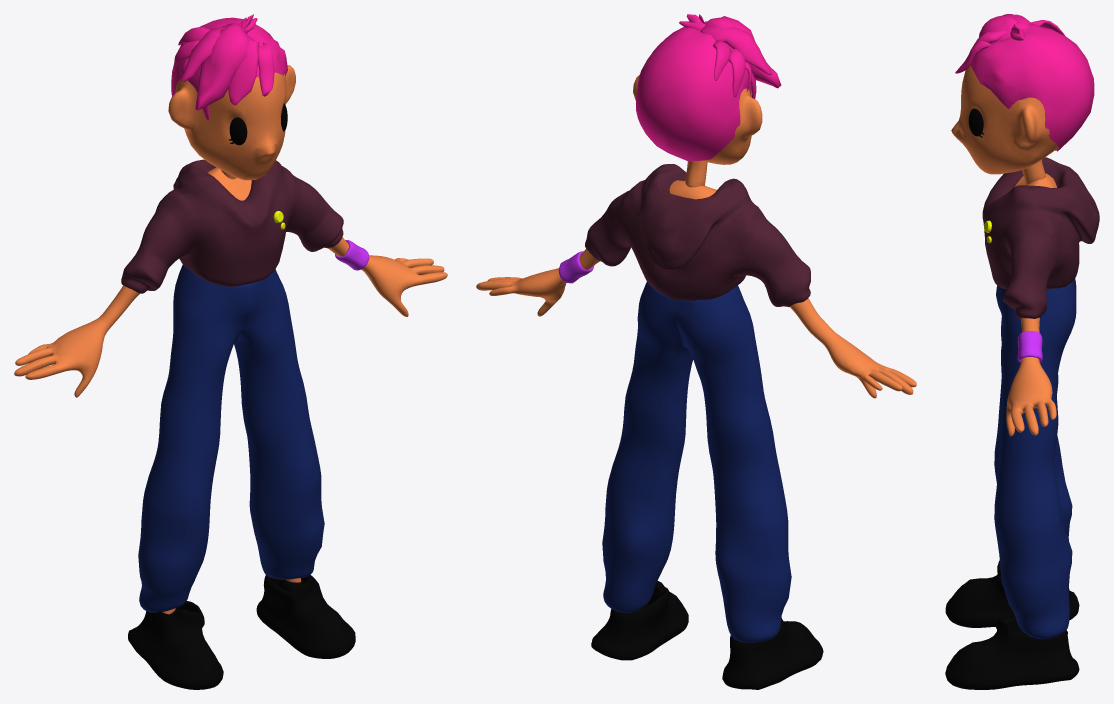
The model's file is Personaje_low.fbx.
The picture shows the model from 3 angles, left to right: view 1: azimuth 30°, elevation 25°; view 2: azimuth 150°, elevation 25°; view 3: azimuth 270°, elevation 25°; orthographic projection. The views are drawn at different scales.
Visible parts, largest first — view 1: PANTALON_LOW, SUDADERA_LOW, ZAPATILLAS_LOW, CABEZA_LOW, BRAZOS_LOW, PELO (×4), PELO_BASE_LOW; view 2: PANTALON_LOW, SUDADERA_LOW, PELO_BASE_LOW, ZAPATILLAS_LOW, BRAZOS_LOW, PELO (×2), CABEZA_LOW; view 3: PANTALON_LOW, SUDADERA_LOW, ZAPATILLAS_LOW, PELO_BASE_LOW, CABEZA_LOW, BRAZOS_LOW, PELO (×2), MUÑEQUERA_LOW, CUELLO_LOW, ZBrush_defualt_group, TORSO_LOW.
Part boxes in pixels (box(x1,y1,x2,y2)): PANTALON_LOW: box(138, 264, 324, 612); SUDADERA_LOW: box(121, 159, 343, 293); ZAPATILLAS_LOW: box(128, 575, 355, 689); CABEZA_LOW: box(168, 65, 295, 180); BRAZOS_LOW: box(14, 237, 447, 397); PELO (×4): box(181, 23, 274, 110); PELO_BASE_LOW: box(171, 17, 287, 96); PANTALON_LOW: box(602, 282, 791, 642); SUDADERA_LOW: box(585, 164, 810, 307); PELO_BASE_LOW: box(636, 27, 751, 161); ZAPATILLAS_LOW: box(591, 580, 823, 689); BRAZOS_LOW: box(476, 249, 916, 398); PELO (×2): box(700, 16, 781, 88); CABEZA_LOW: box(633, 74, 762, 164); PANTALON_LOW: box(994, 278, 1076, 639); SUDADERA_LOW: box(982, 157, 1099, 319); ZAPATILLAS_LOW: box(945, 560, 1079, 689); PELO_BASE_LOW: box(970, 24, 1094, 151); CABEZA_LOW: box(951, 65, 1058, 174); BRAZOS_LOW: box(1006, 317, 1056, 436); PELO (×2): box(955, 15, 1018, 73); MUÑEQUERA_LOW: box(1017, 331, 1042, 363); CUELLO_LOW: box(1022, 159, 1045, 184); ZBrush_defualt_group: box(968, 108, 984, 137); TORSO_LOW: box(1014, 173, 1056, 187).
Size of the model in its own units: 16.68 by 23.46 by 5.22.
